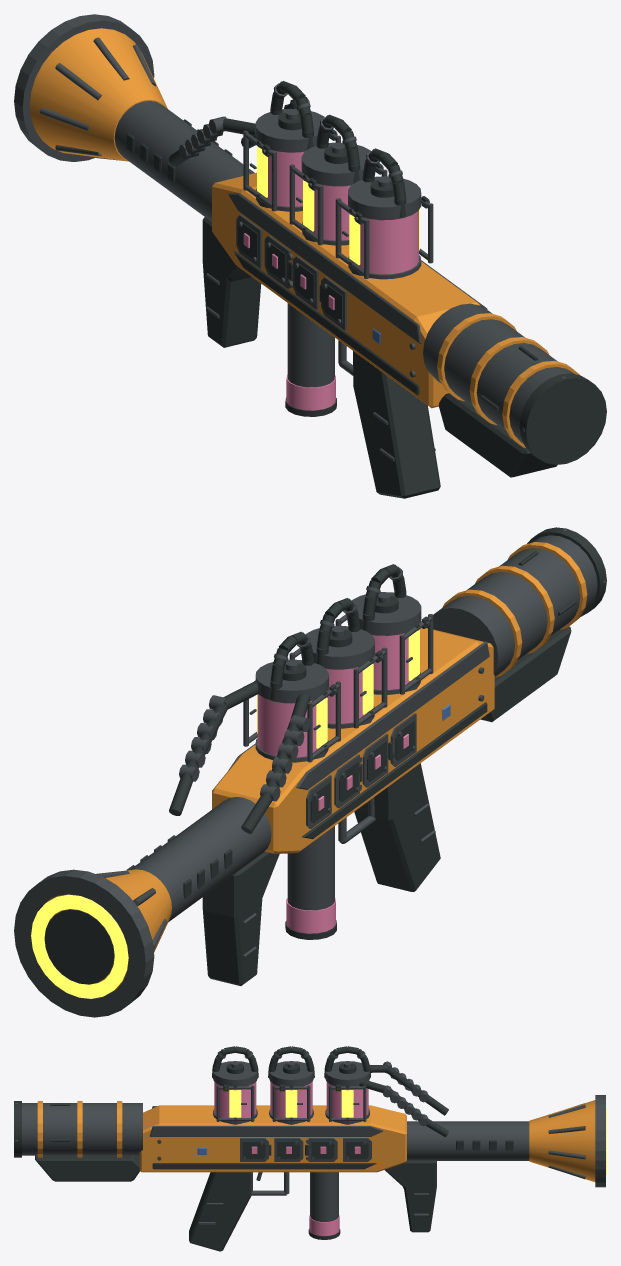
The model's file is sticky_2.glb.
The picture shows the model from 3 angles, top to bottom: view 1: azimuth 30°, elevation 25°; view 2: azimuth 150°, elevation 25°; view 3: azimuth 270°, elevation 25°; orthographic projection. The views are drawn at different scales.
Visible parts, largest first — view 1: Weapon_sticky_v1; view 2: Weapon_sticky_v1; view 3: Weapon_sticky_v1.
Boxes of the visible parts, box(x1,y1,x2,y2) form: Weapon_sticky_v1: box(14, 14, 606, 498); Weapon_sticky_v1: box(14, 527, 606, 1017); Weapon_sticky_v1: box(14, 1046, 606, 1251).
Size of the model in its own units: 0.14 by 0.3345 by 0.8975.
